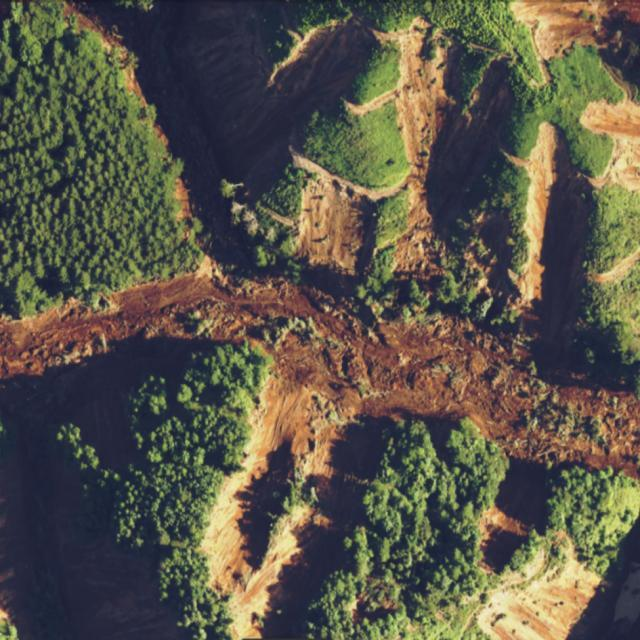landslide: (0, 274, 640, 639), (86, 1, 377, 240), (138, 3, 377, 198), (396, 16, 512, 274), (519, 121, 592, 347), (289, 146, 406, 274), (480, 561, 619, 640), (511, 0, 640, 82), (581, 99, 640, 191)
